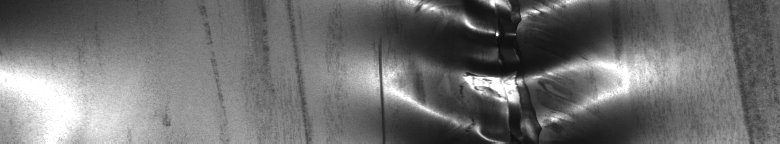ke: (379, 4, 616, 136)
